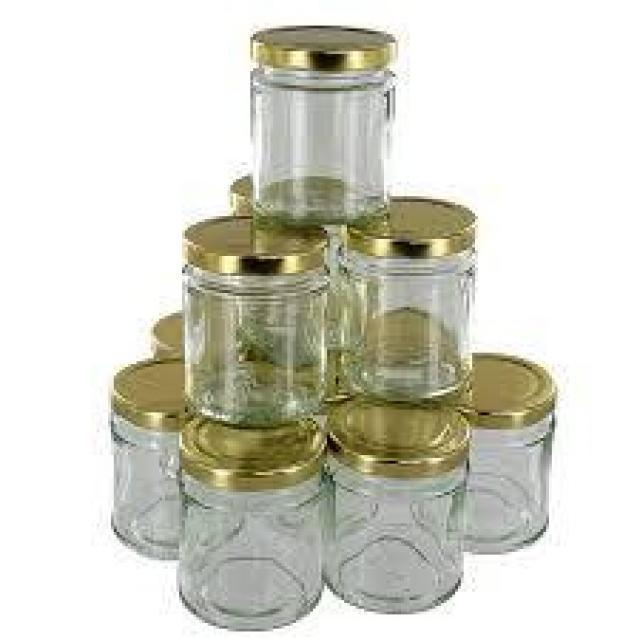glass: (242, 20, 398, 234)
